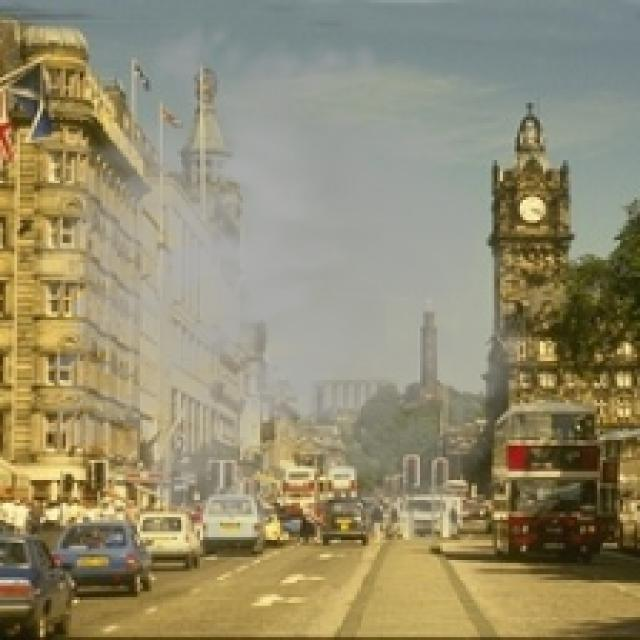smoke: (3, 6, 557, 557)
